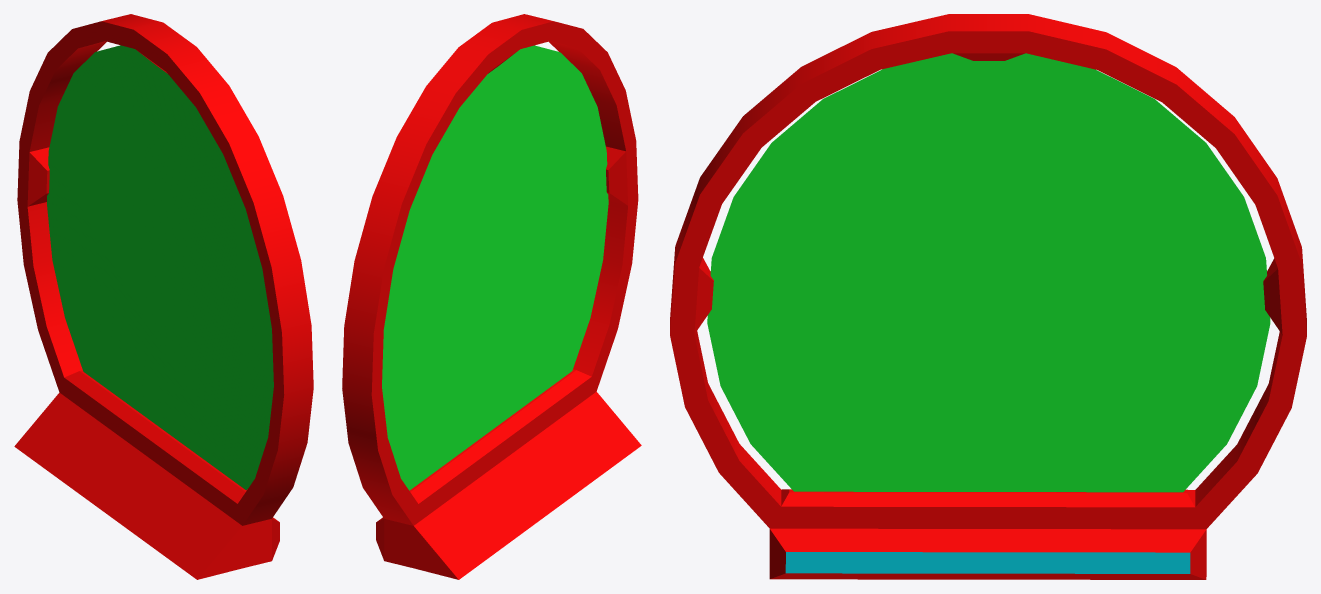
File: Progeny Reticle.FBX
3 views of the same model, side by side, from view 1: azimuth 30°, elevation 25°; view 2: azimuth 150°, elevation 25°; view 3: azimuth 270°, elevation 25° (orthographic). The views are drawn at different scales.
Visible parts, largest first — view 1: Cylinder002, Cylinder001; view 2: Cylinder002, Cylinder001; view 3: Cylinder002, Cylinder001.
Part boxes in pixels (left/top/right/bottom): Cylinder002: left=47, top=45, right=273, bottom=490; Cylinder001: left=14, top=14, right=313, bottom=579; Cylinder002: left=382, top=45, right=608, bottom=490; Cylinder001: left=342, top=14, right=641, bottom=579; Cylinder002: left=707, top=53, right=1270, bottom=492; Cylinder001: left=670, top=14, right=1306, bottom=579.
Size of the model in its own units: 0.4595 by 2.25 by 2.37.
